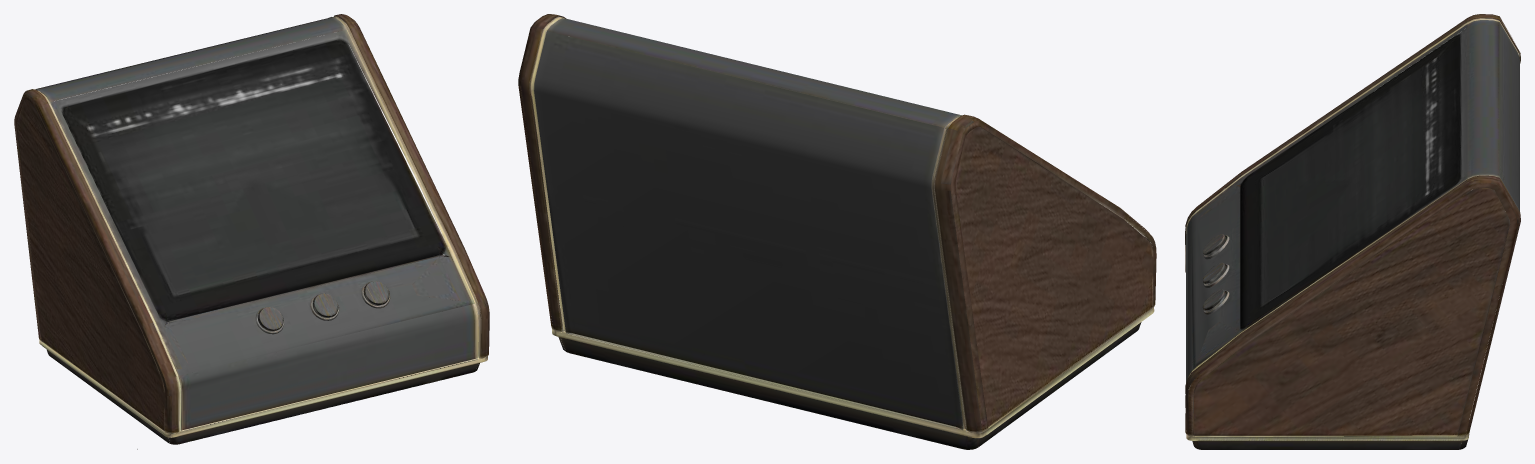
Rendered from voting-console.glb.
The picture shows the model from 3 angles, left to right: view 1: azimuth 30°, elevation 25°; view 2: azimuth 150°, elevation 25°; view 3: azimuth 270°, elevation 25°; orthographic projection. The views are drawn at different scales.
Parts seen in each view (by area): view 1: b2e37663_09e6_415c_948e_ad158ad47a2d; view 2: b2e37663_09e6_415c_948e_ad158ad47a2d; view 3: b2e37663_09e6_415c_948e_ad158ad47a2d.
Part boxes in pixels (x1,y1,x2,y2): b2e37663_09e6_415c_948e_ad158ad47a2d: [14, 14, 489, 449]; b2e37663_09e6_415c_948e_ad158ad47a2d: [518, 14, 1156, 449]; b2e37663_09e6_415c_948e_ad158ad47a2d: [1185, 14, 1520, 449].
Size of the model in its own units: 0.2 by 0.1631 by 0.1676.
1 material, 1 textured.
